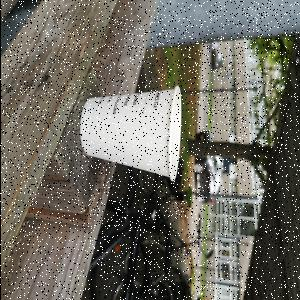Cup: (79, 86, 182, 186)
